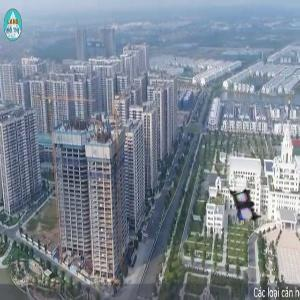drone: (220, 178, 277, 235)
